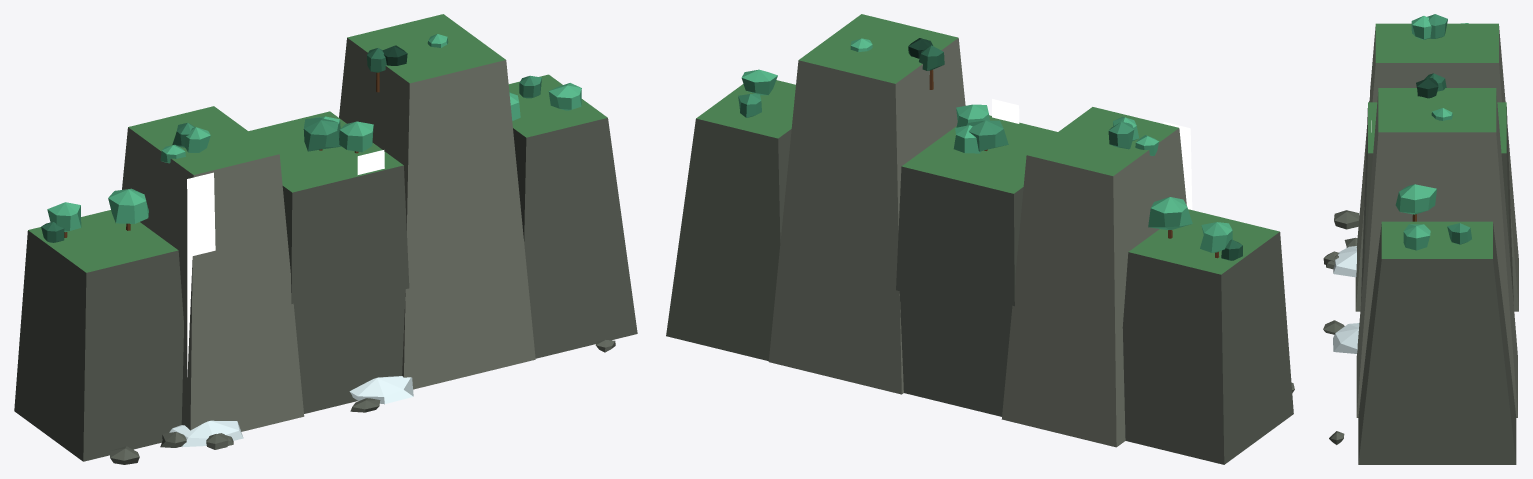
Rendered from W3_Mid_CliffFalls.fbx.
3 renders of one model, left to right at view 1: azimuth 30°, elevation 25°; view 2: azimuth 150°, elevation 25°; view 3: azimuth 270°, elevation 25°, orthographic. The views are drawn at different scales.
Parts seen in each view (by area): view 1: W3_Mid_CliffFalls; view 2: W3_Mid_CliffFalls; view 3: W3_Mid_CliffFalls.
Part boxes in pixels (<box>): W3_Mid_CliffFalls: <box>14,14,637,464</box>; W3_Mid_CliffFalls: <box>666,14,1294,464</box>; W3_Mid_CliffFalls: <box>1323,14,1518,464</box>.
Size of the model in its own units: 122 by 66.34 by 40.32.
